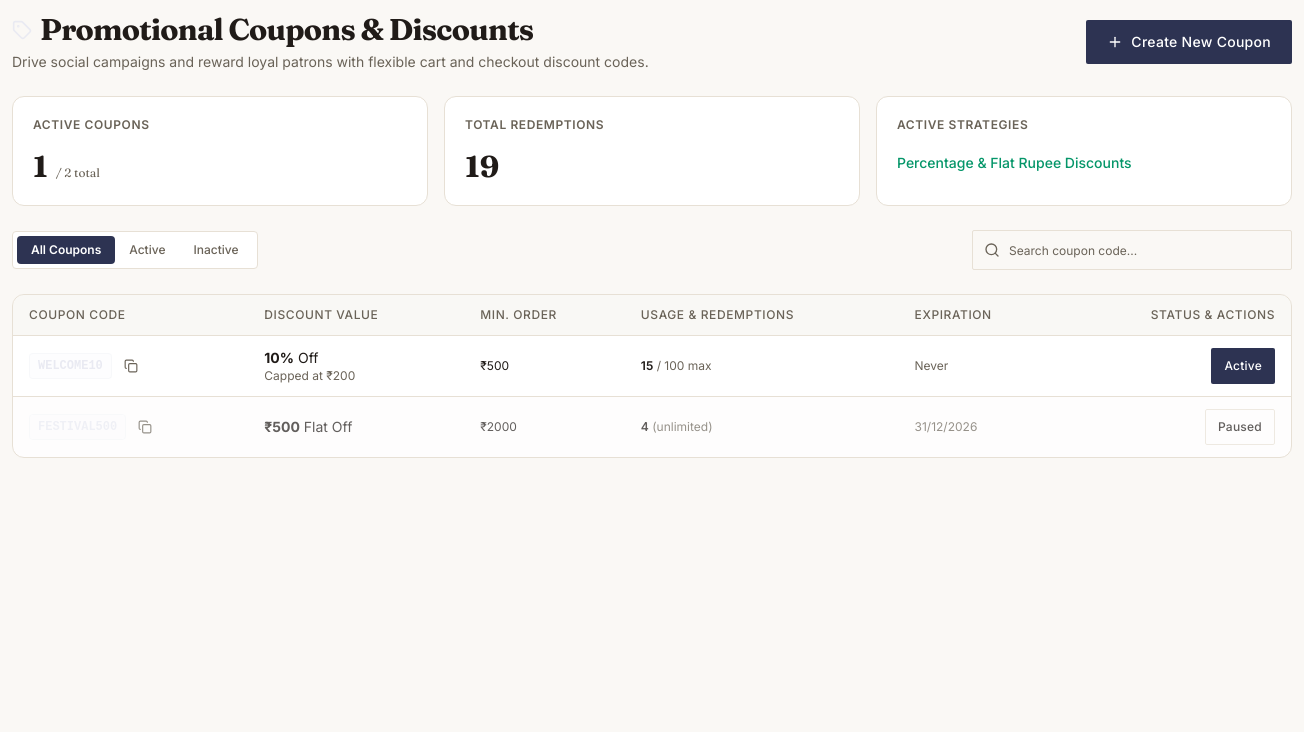
Test: CouponsDashboard Component › toggles coupon active status
This screenshot has width=1304, height=732.
Click the button with aria-label "pause coupon welcome10" at (1243, 366), box [1211,348,1275,384]
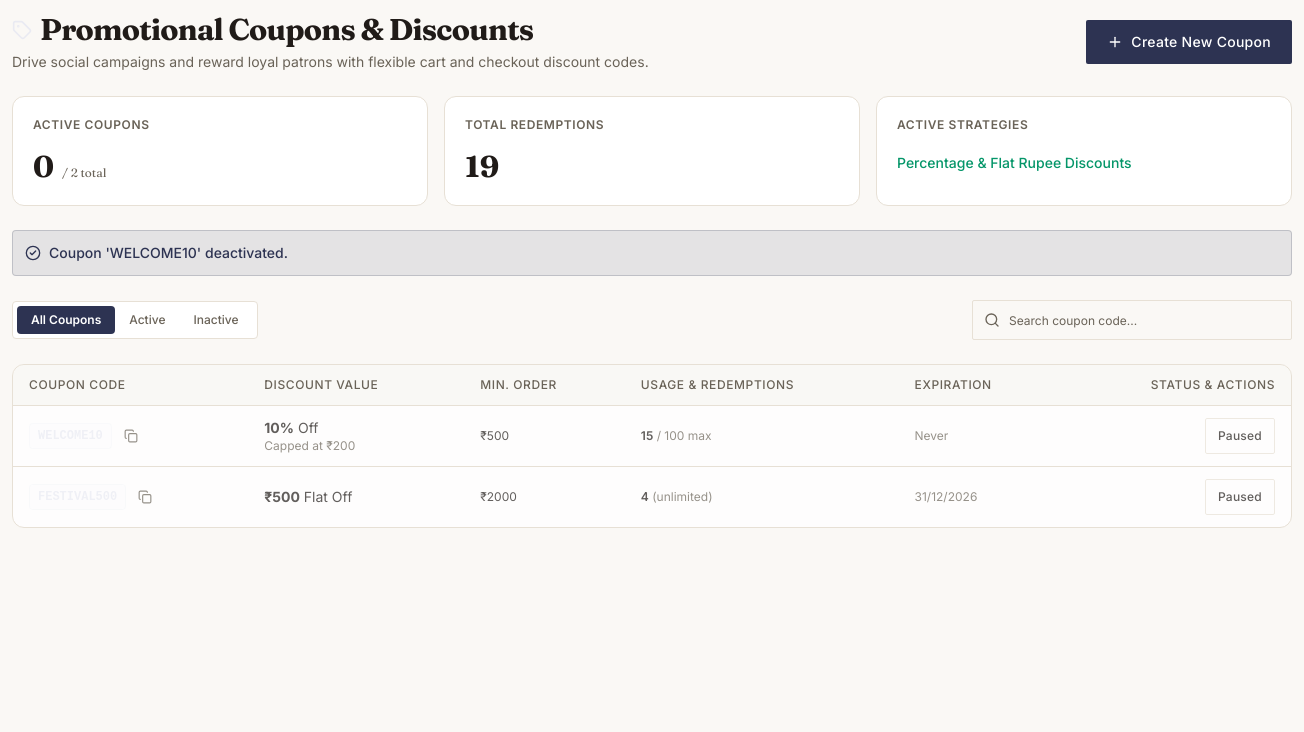
Check: the text "Coupon 'WELCOME10' deactivated." is shown, box [49,243,288,263]
